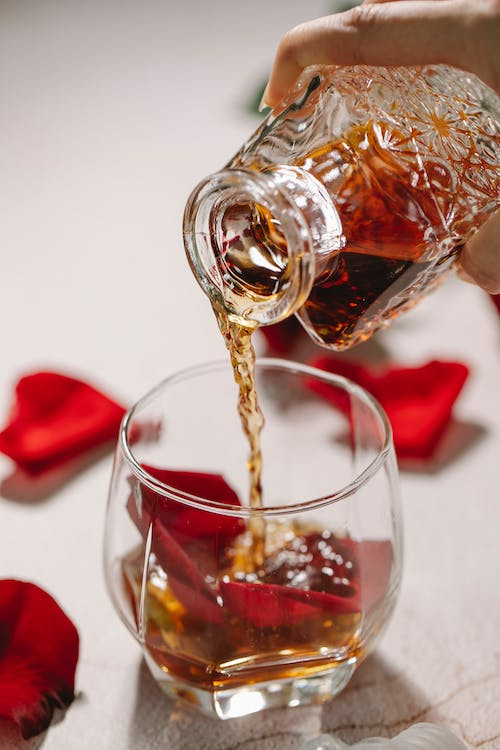alcohol: (102, 358, 408, 722), (179, 63, 500, 352)
